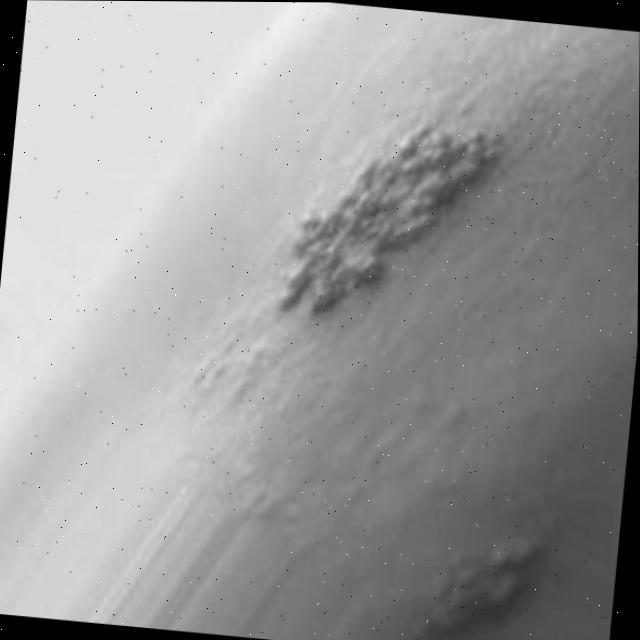Shingles: (277, 103, 507, 334), (408, 525, 542, 640)
